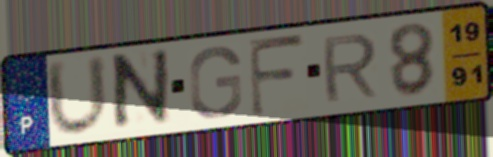8: (386, 21, 439, 100)
F: (246, 32, 309, 120)
G: (186, 43, 245, 121)
N: (109, 45, 172, 137)
R: (319, 31, 381, 106)
U: (43, 52, 113, 140)
